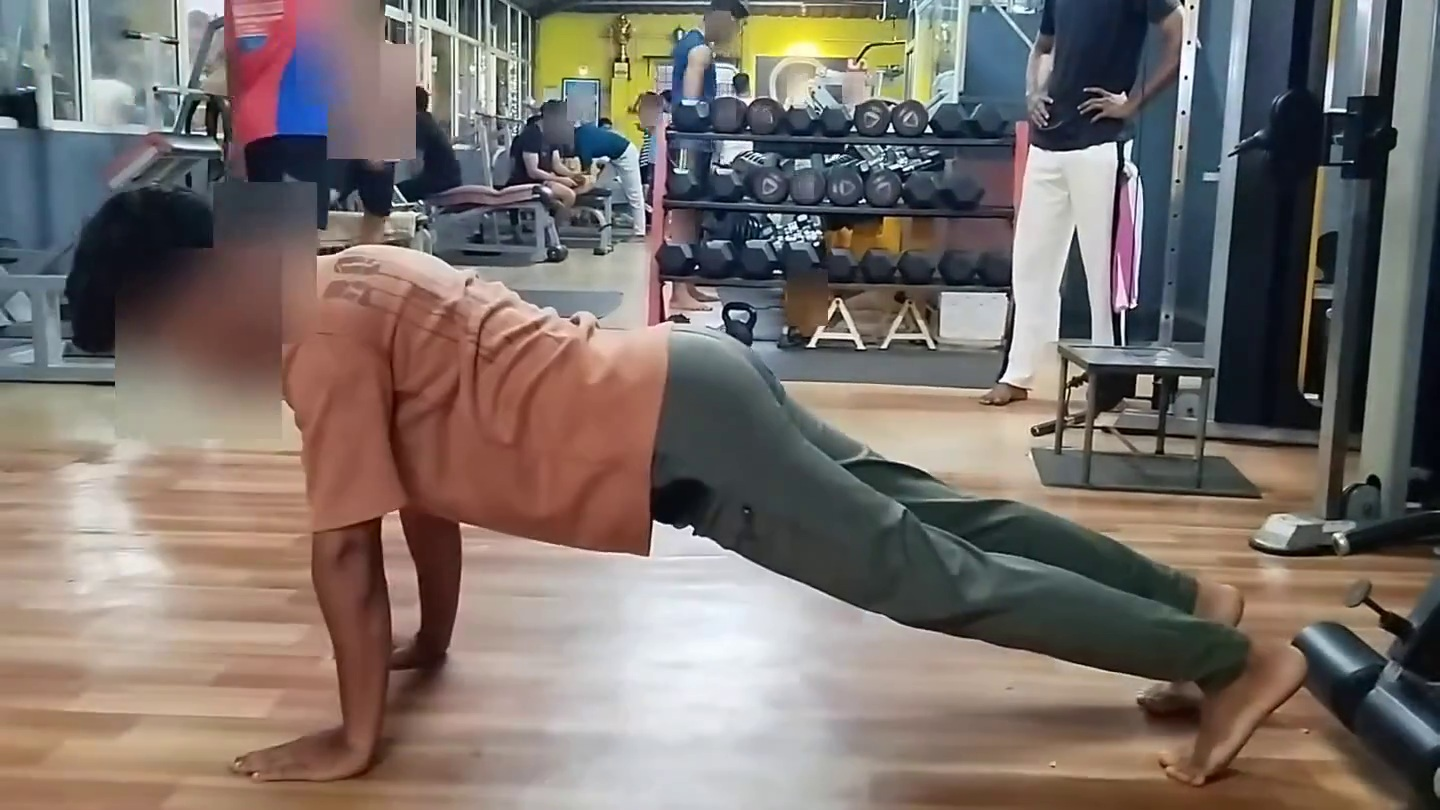push_up_correct: (47, 195, 1405, 810)
